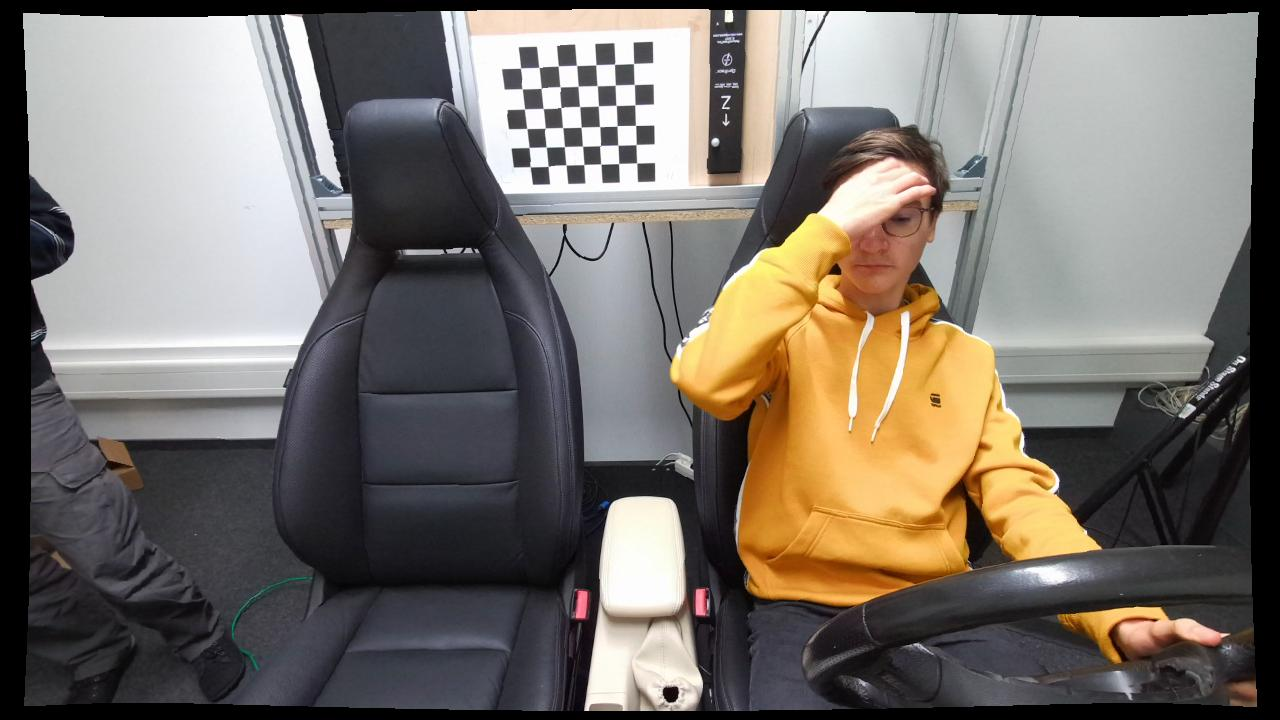Distracted: (661, 115, 1019, 708)
